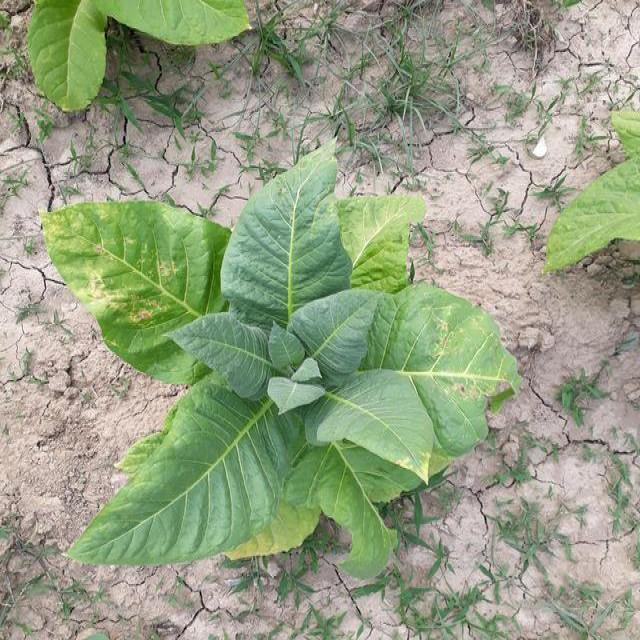crop: (45, 207, 522, 590), (30, 0, 254, 82)
